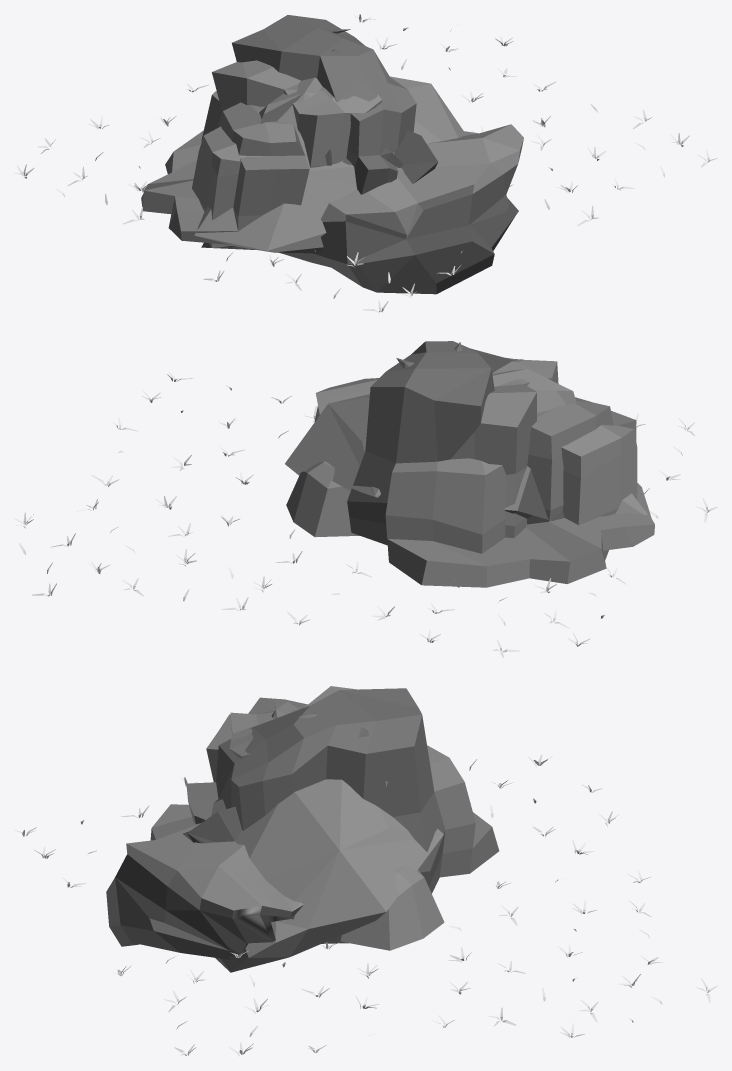
File: C_Environment_01.fbx
3 renders of one model, top to bottom at view 1: azimuth 30°, elevation 25°; view 2: azimuth 150°, elevation 25°; view 3: azimuth 270°, elevation 25°, orthographic. The views are drawn at different scales.
Parts seen in each view (by area): view 1: C_Stones_4, C_Rock_4, C_Rock_3, C_Stones_3, Grass, C_Rock_5; view 2: C_Stones_4, C_Stones_3, C_Rock_3, Grass, C_Rock_4; view 3: C_Stones_4, C_Rock_3, C_Rock_4, C_Stones_3, Grass, C_Rock_5.
Part boxes in pixels (<box>): C_Stones_4: <box>141,15,432,244</box>; C_Rock_4: <box>279,124,523,294</box>; C_Rock_3: <box>194,76,464,253</box>; C_Stones_3: <box>192,60,381,247</box>; Grass: <box>14,14,717,312</box>; C_Rock_5: <box>342,130,437,183</box>; C_Stones_4: <box>347,341,654,587</box>; C_Stones_3: <box>286,357,637,537</box>; C_Rock_3: <box>285,369,651,520</box>; Grass: <box>14,372,717,657</box>; C_Rock_4: <box>314,378,378,421</box>; C_Stones_4: <box>186,688,499,893</box>; C_Rock_3: <box>215,699,443,972</box>; C_Rock_4: <box>106,804,348,959</box>; C_Stones_3: <box>229,686,444,950</box>; Grass: <box>14,754,717,1056</box>; C_Rock_5: <box>183,799,241,843</box>.
Size of the model in its own units: 2036 by 721 by 2020.
